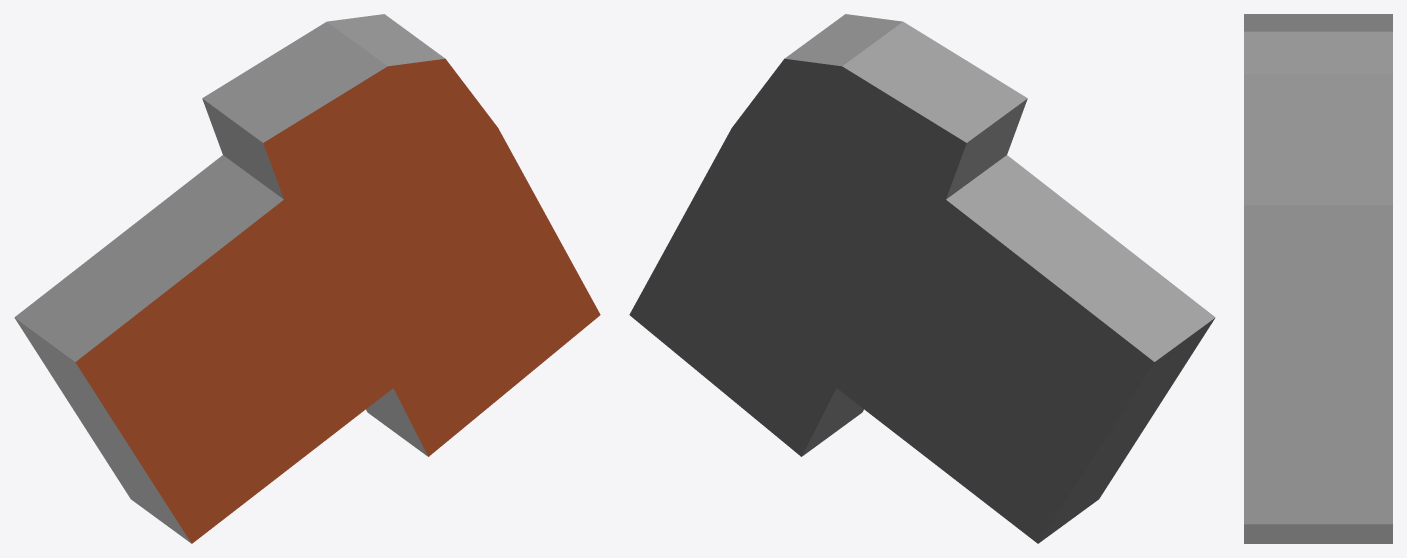
Rendered from construction_3305_assumed_A_Casa_h6m.obj.
The picture shows the model from 3 angles, left to right: view 1: azimuth 30°, elevation 25°; view 2: azimuth 150°, elevation 25°; view 3: azimuth 270°, elevation 25°; orthographic projection. The views are drawn at different scales.
Parts seen in each view (by area): view 1: construction_3305_assumed_A_Casa; view 2: construction_3305_assumed_A_Casa; view 3: construction_3305_assumed_A_Casa.
Part boxes in pixels (x1,y1,x2,y2): construction_3305_assumed_A_Casa: [14, 14, 600, 543]; construction_3305_assumed_A_Casa: [629, 14, 1215, 543]; construction_3305_assumed_A_Casa: [1244, 14, 1392, 543].
Bounding box in the file's own units: 29.78 × 23.29 × 6.
